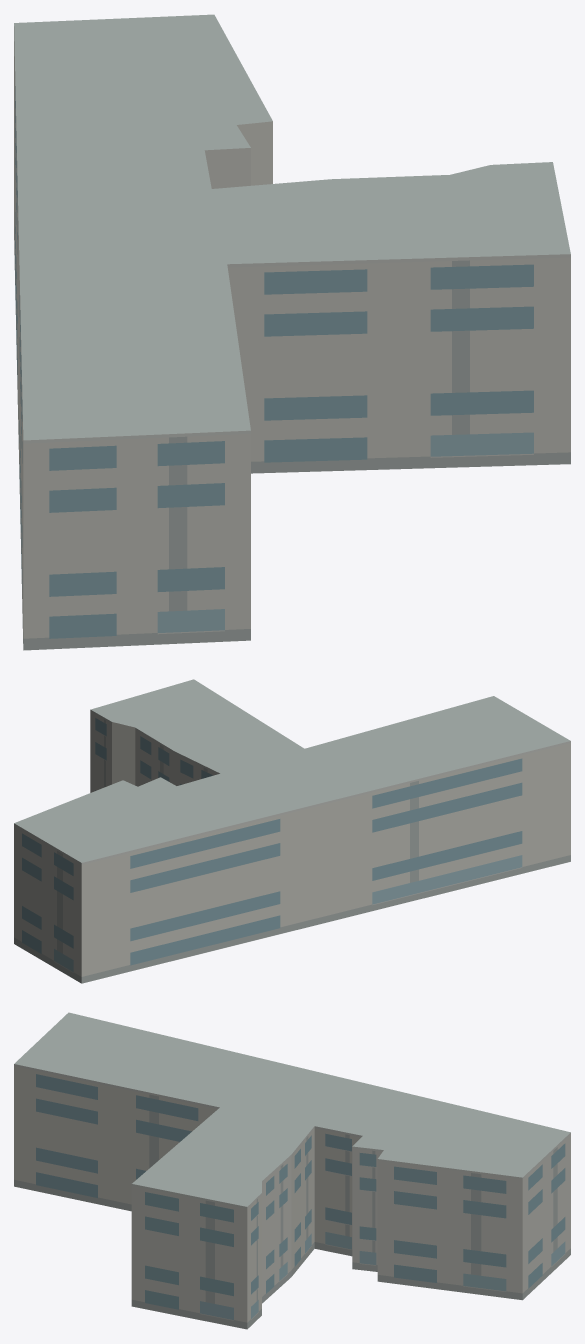
The model's file is residential-b816d029-23d4-459d-97bc-f7dc780b6669.glb.
The picture shows the model from 3 angles, top to bottom: view 1: azimuth 30°, elevation 25°; view 2: azimuth 150°, elevation 25°; view 3: azimuth 270°, elevation 25°; orthographic projection. The views are drawn at different scales.
Visible parts, largest first — view 1: residential-b816d029-23d4-459d-97bc-f7dc780b6669.tmp; view 2: residential-b816d029-23d4-459d-97bc-f7dc780b6669.tmp; view 3: residential-b816d029-23d4-459d-97bc-f7dc780b6669.tmp.
Boxes of the visible parts, box(x1,y1,x2,y2) form: residential-b816d029-23d4-459d-97bc-f7dc780b6669.tmp: box(14, 14, 570, 650); residential-b816d029-23d4-459d-97bc-f7dc780b6669.tmp: box(14, 679, 570, 983); residential-b816d029-23d4-459d-97bc-f7dc780b6669.tmp: box(14, 1012, 570, 1329).
Bounding box in the file's own units: 51.89 × 15.25 × 62.78.
